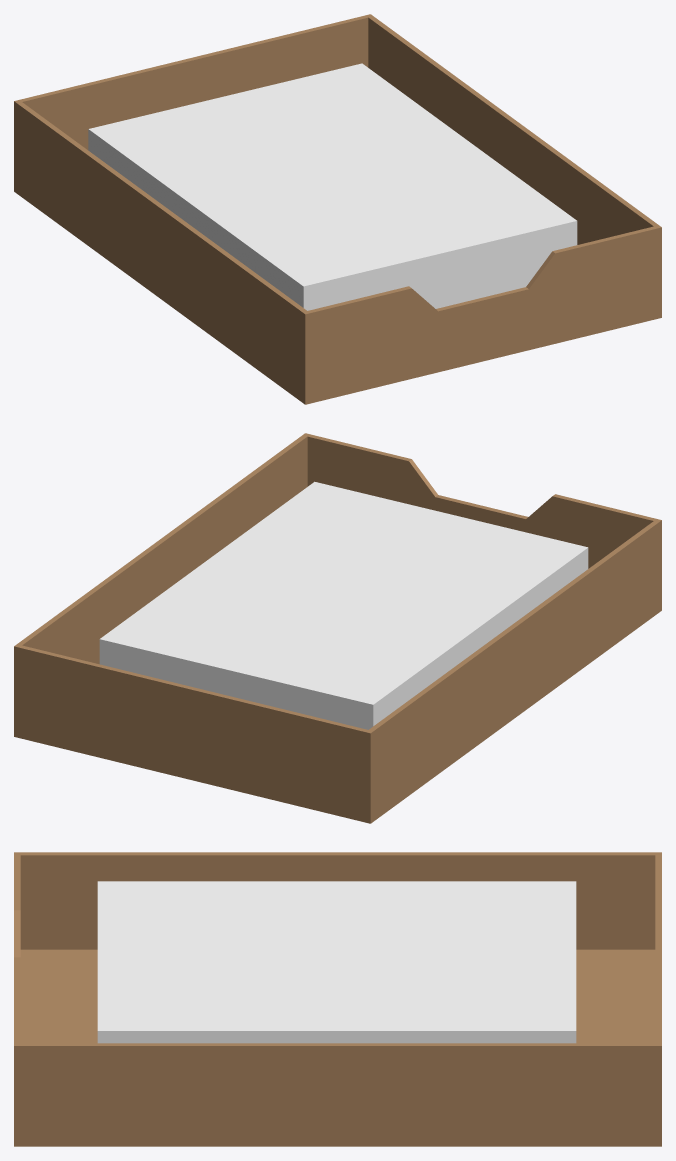
File: SM_lettertray_02.fbx
3 views of the same model, one above another, from view 1: azimuth 30°, elevation 25°; view 2: azimuth 150°, elevation 25°; view 3: azimuth 270°, elevation 25° (orthographic). The views are drawn at different scales.
Visible parts, largest first — view 1: Box003; view 2: Box003; view 3: Box003.
Boxes of the visible parts, x1,y1,x2,y2 form: Box003: (14,14,661,404); Box003: (14,433,661,823); Box003: (14,852,661,1146).
Bounding box in the file's own units: 20.09 × 4.87 × 28.43.
